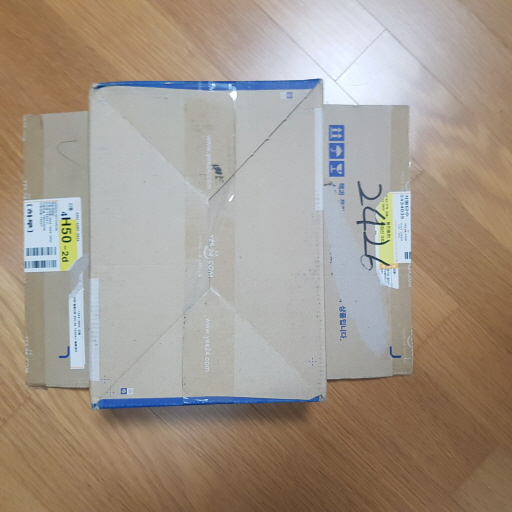Paper_0: (18, 75, 412, 412)
